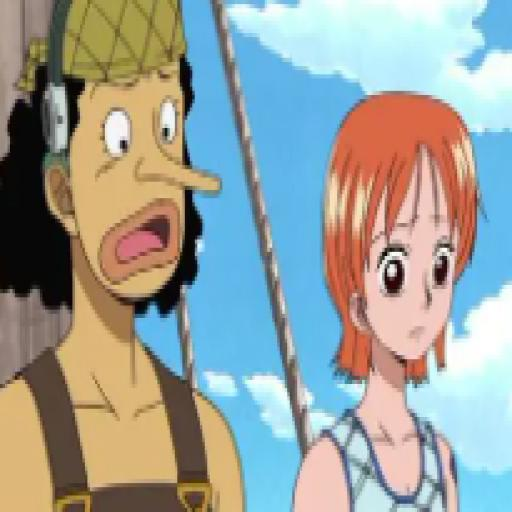Nami: (284, 78, 512, 511)
Usopp: (0, 0, 249, 512)
